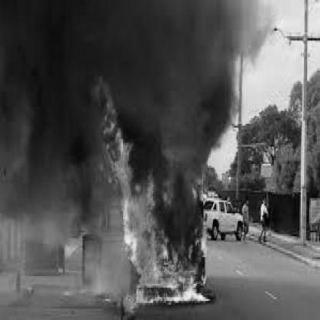Fire: (90, 76, 222, 310)
Smoke: (21, 1, 268, 145)
